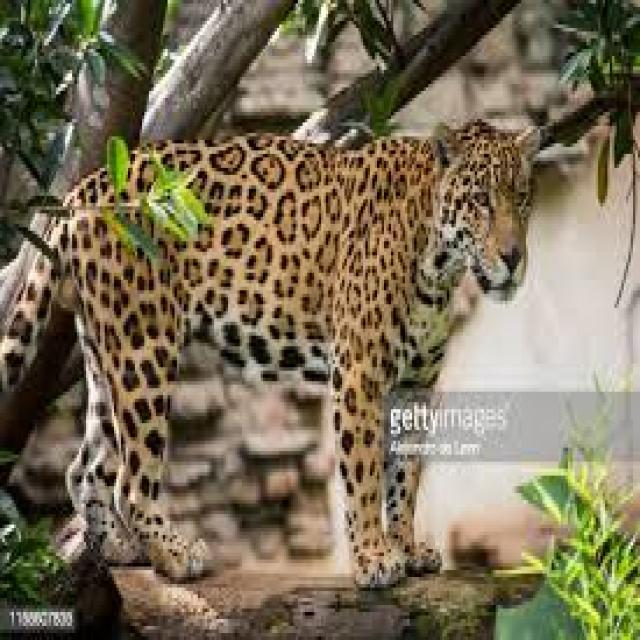Jaguar: (0, 115, 535, 590)
